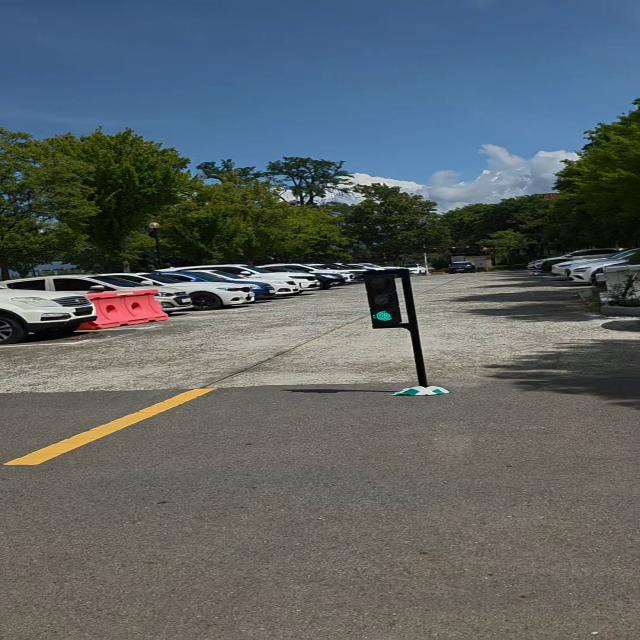green: (363, 270, 407, 328)
